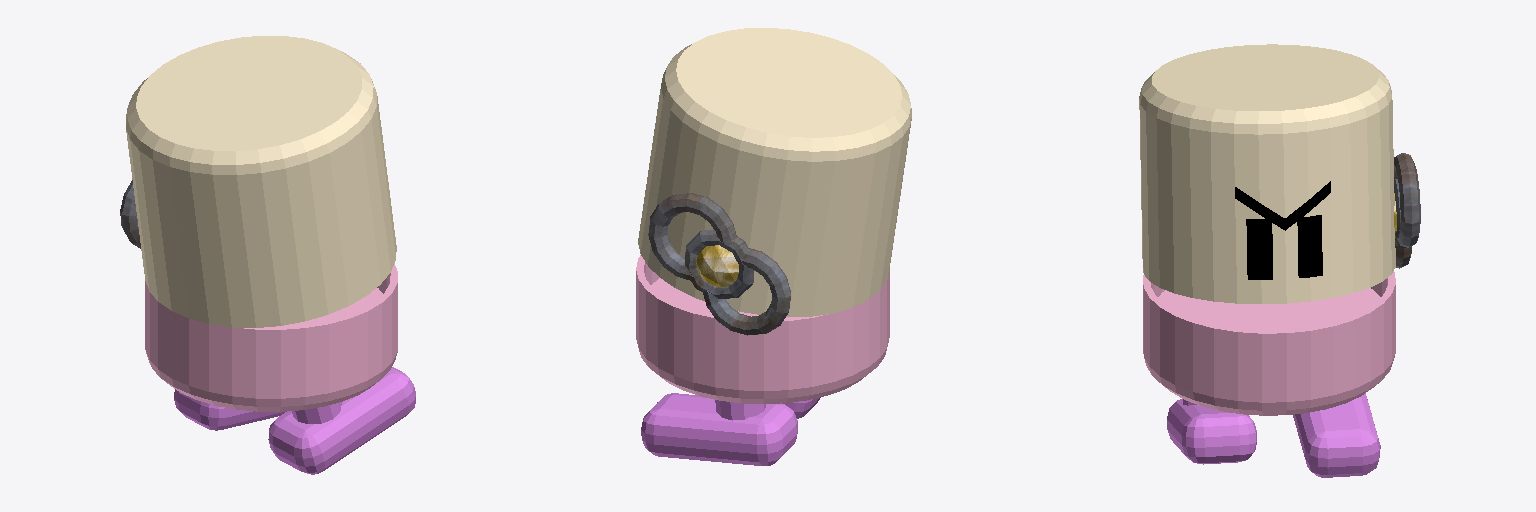
3 views of the same model, side by side, from view 1: azimuth 30°, elevation 25°; view 2: azimuth 150°, elevation 25°; view 3: azimuth 270°, elevation 25° (orthographic).
Parts seen in each view (by area): view 1: Head, Jaw, RightLeg, LeftLeg, WindupKey; view 2: Head, Jaw, WindupKey, LeftLeg; view 3: Head, Jaw, LeftLeg, RightLeg, WindupKey.
Part boxes in pixels (bbox=[...]): Head: bbox=[126, 36, 396, 327]; Jaw: bbox=[145, 263, 397, 411]; RightLeg: bbox=[268, 367, 415, 474]; LeftLeg: bbox=[174, 389, 286, 430]; WindupKey: bbox=[120, 180, 140, 248]; Head: bbox=[638, 28, 911, 316]; Jaw: bbox=[636, 255, 889, 403]; WindupKey: bbox=[648, 193, 790, 335]; LeftLeg: bbox=[641, 393, 797, 465]; Head: bbox=[1139, 44, 1395, 303]; Jaw: bbox=[1143, 271, 1395, 415]; LeftLeg: bbox=[1293, 393, 1380, 477]; RightLeg: bbox=[1167, 399, 1256, 464]; WindupKey: bbox=[1394, 153, 1420, 268].
Bounding box in the file's own units: 109 × 161 × 111.
6 materials, 2 textured.